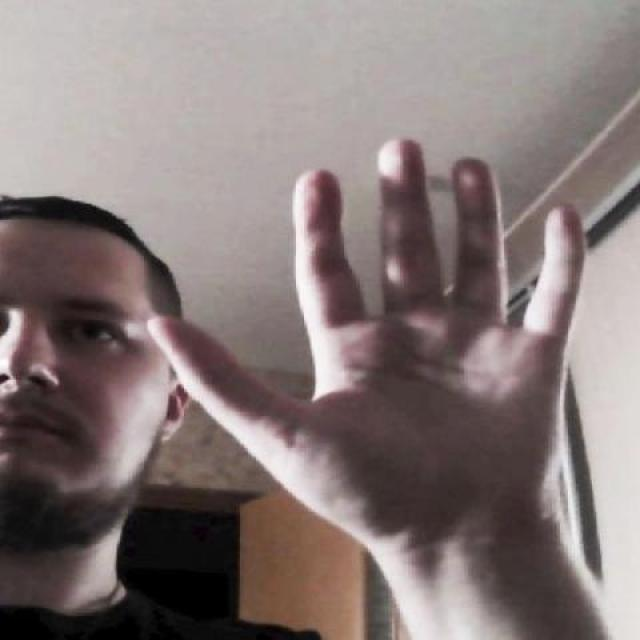Open Hand: (146, 126, 590, 570)
